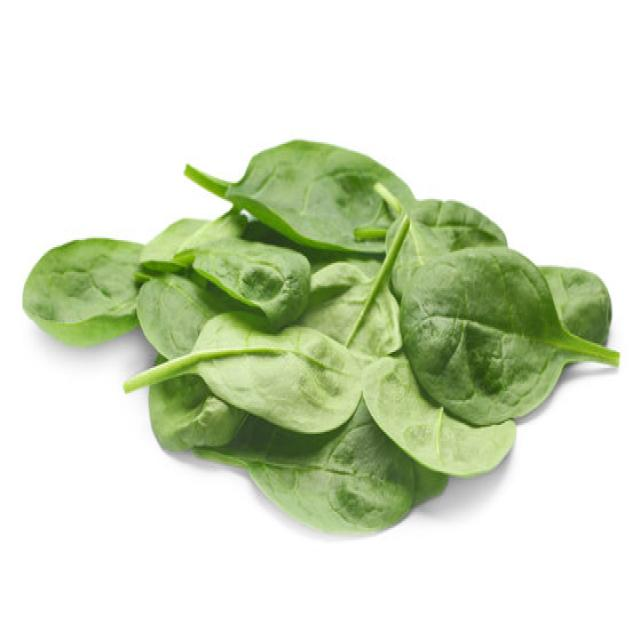Carrot: (121, 309, 363, 434)
Radish: (182, 137, 417, 256)
Spinach: (22, 135, 619, 535)
